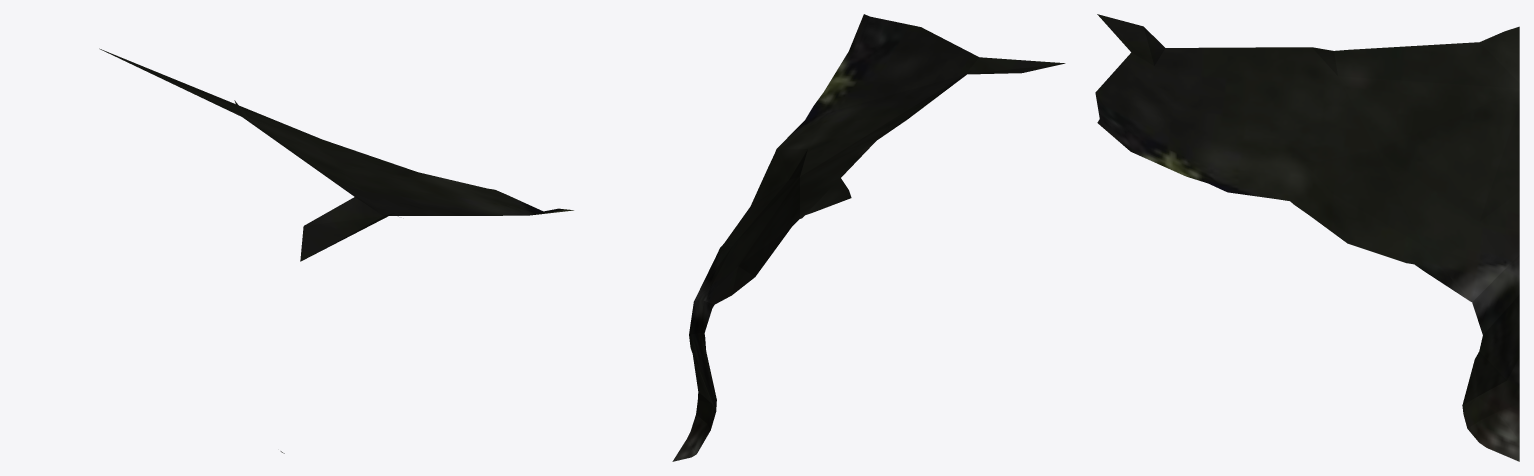
3 views of the same model, side by side, from view 1: azimuth 30°, elevation 25°; view 2: azimuth 150°, elevation 25°; view 3: azimuth 270°, elevation 25° (orthographic). The views are drawn at different scales.
Size of the model in its own units: 0.2574 by 0.3738 by 0.4238.
Materials: 1 (1 with a texture image).
